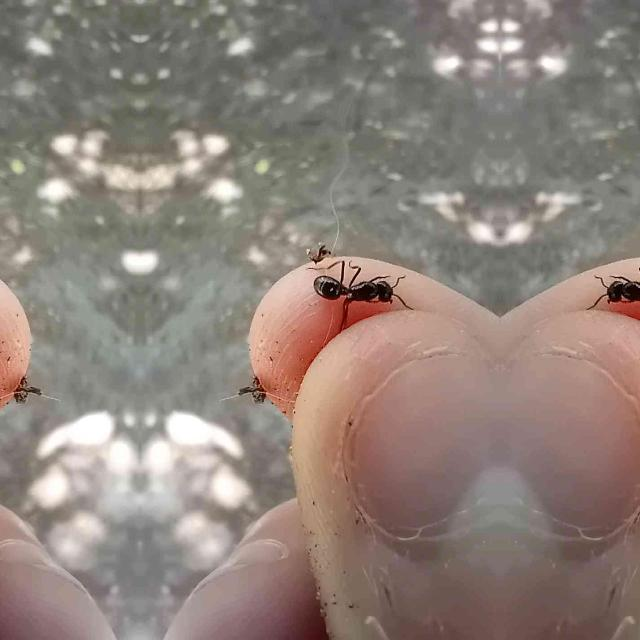Lasius: (304, 259, 408, 319), (590, 259, 640, 319)
